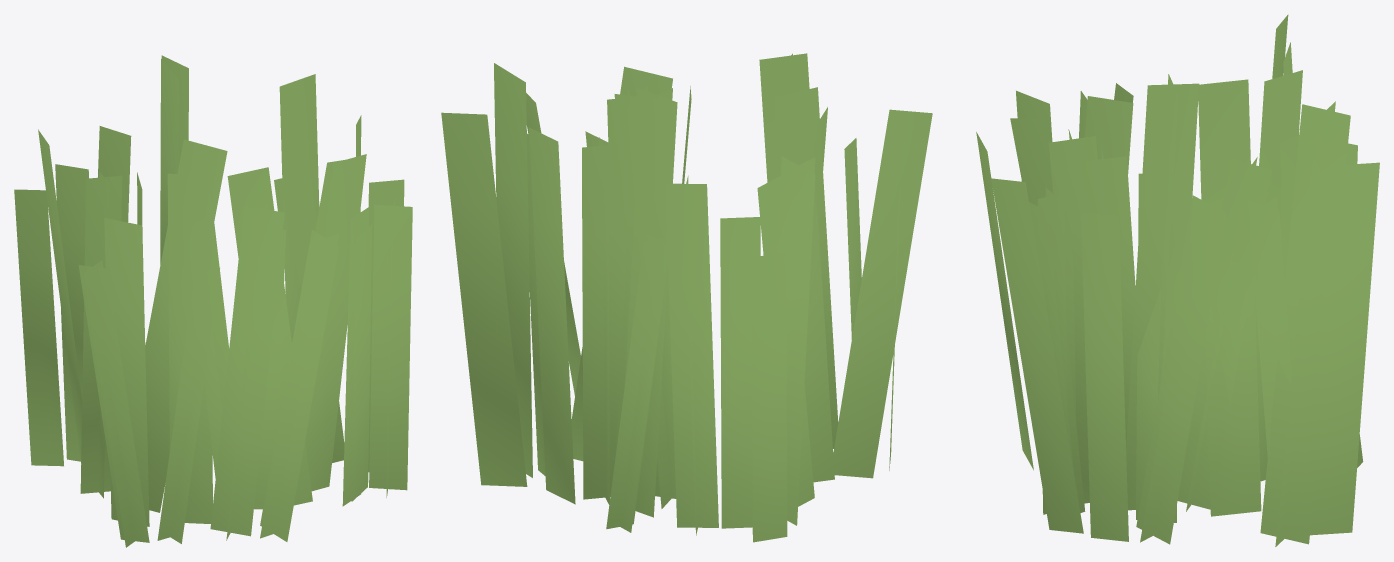
Rendered from reeds.glb.
3 views of the same model, side by side, from view 1: azimuth 30°, elevation 25°; view 2: azimuth 150°, elevation 25°; view 3: azimuth 270°, elevation 25° (orthographic). The views are drawn at different scales.
Visible parts, largest first — view 1: Node; view 2: Node; view 3: Node.
Part boxes in pixels (left/top/right/bottom): Node: left=14, top=55, right=412, bottom=547; Node: left=441, top=53, right=932, bottom=542; Node: left=976, top=14, right=1379, bottom=546.
Bounding box in the file's own units: 0.6935 × 0.7788 × 0.6874.
